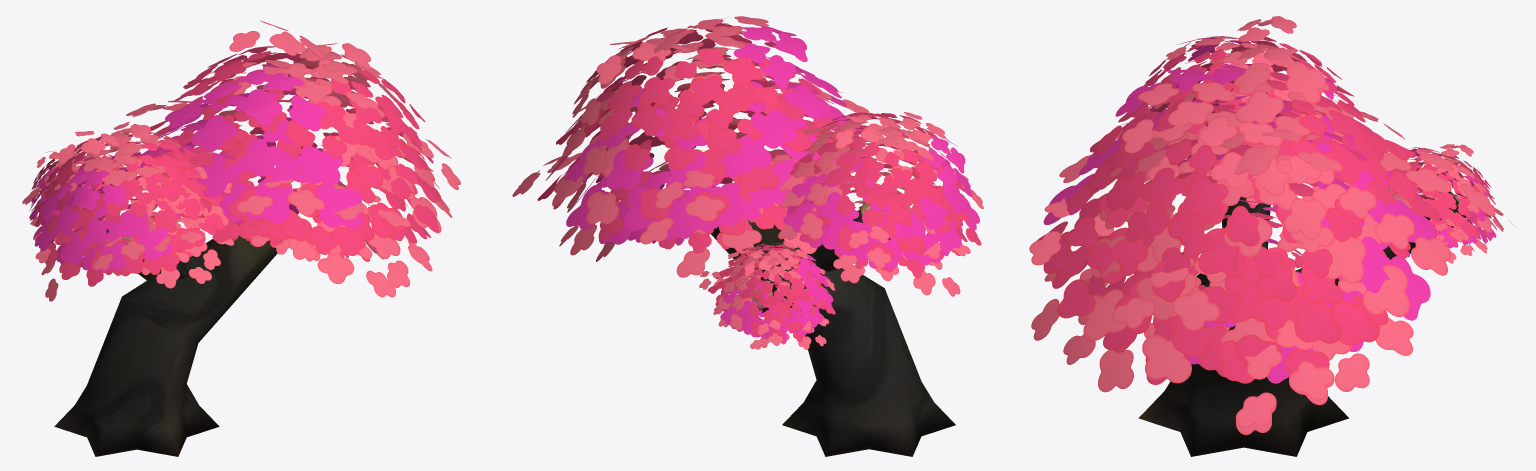
Rendered from trees_002.fbx.
3 renders of one model, left to right at view 1: azimuth 30°, elevation 25°; view 2: azimuth 150°, elevation 25°; view 3: azimuth 270°, elevation 25°, orthographic. The views are drawn at different scales.
Parts seen in each view (by area): view 1: MidGrow.005; view 2: MidGrow.005; view 3: MidGrow.005.
Part boxes in pixels (x1,y1,x2,y2): MidGrow.005: [22, 20, 460, 456]; MidGrow.005: [512, 16, 983, 456]; MidGrow.005: [1029, 16, 1514, 456].
Size of the model in its own units: 11.92 by 9.39 by 9.43.
